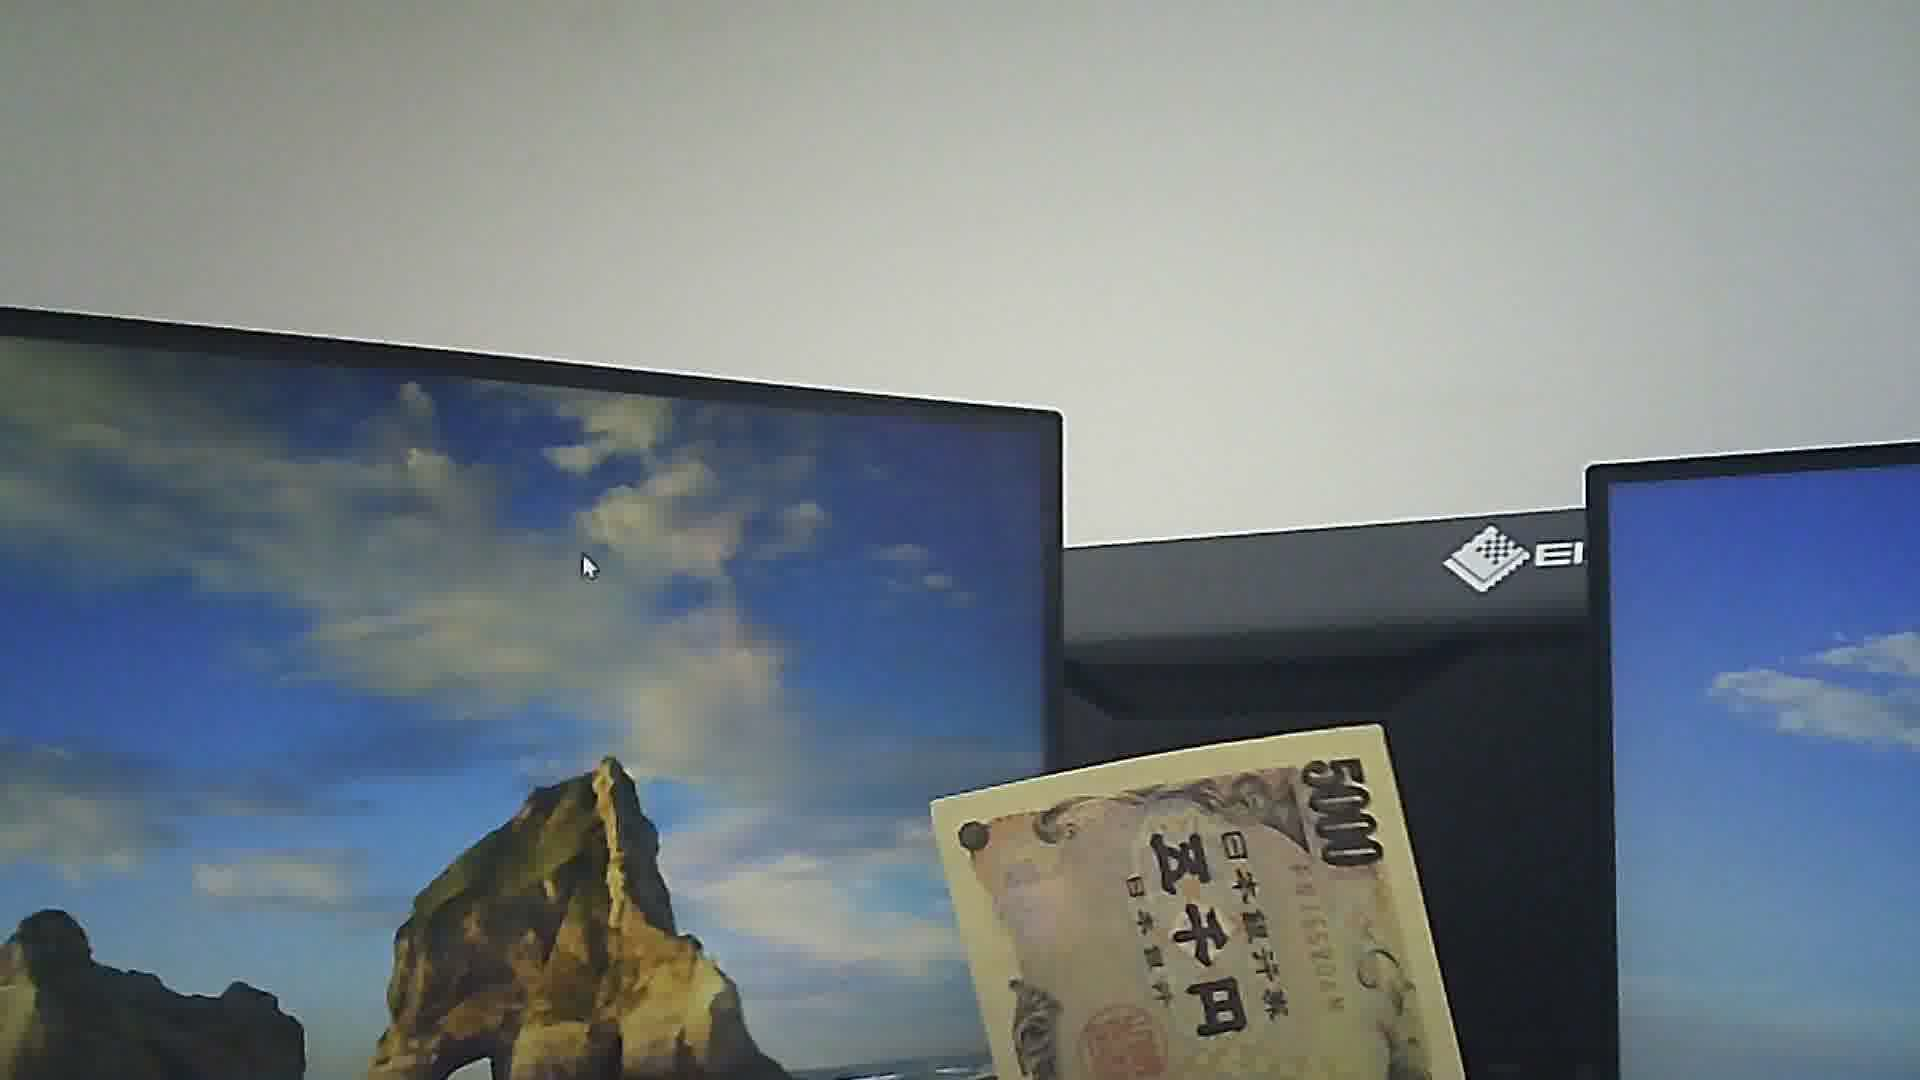5,000 Yen: (924, 723, 1429, 1079)
